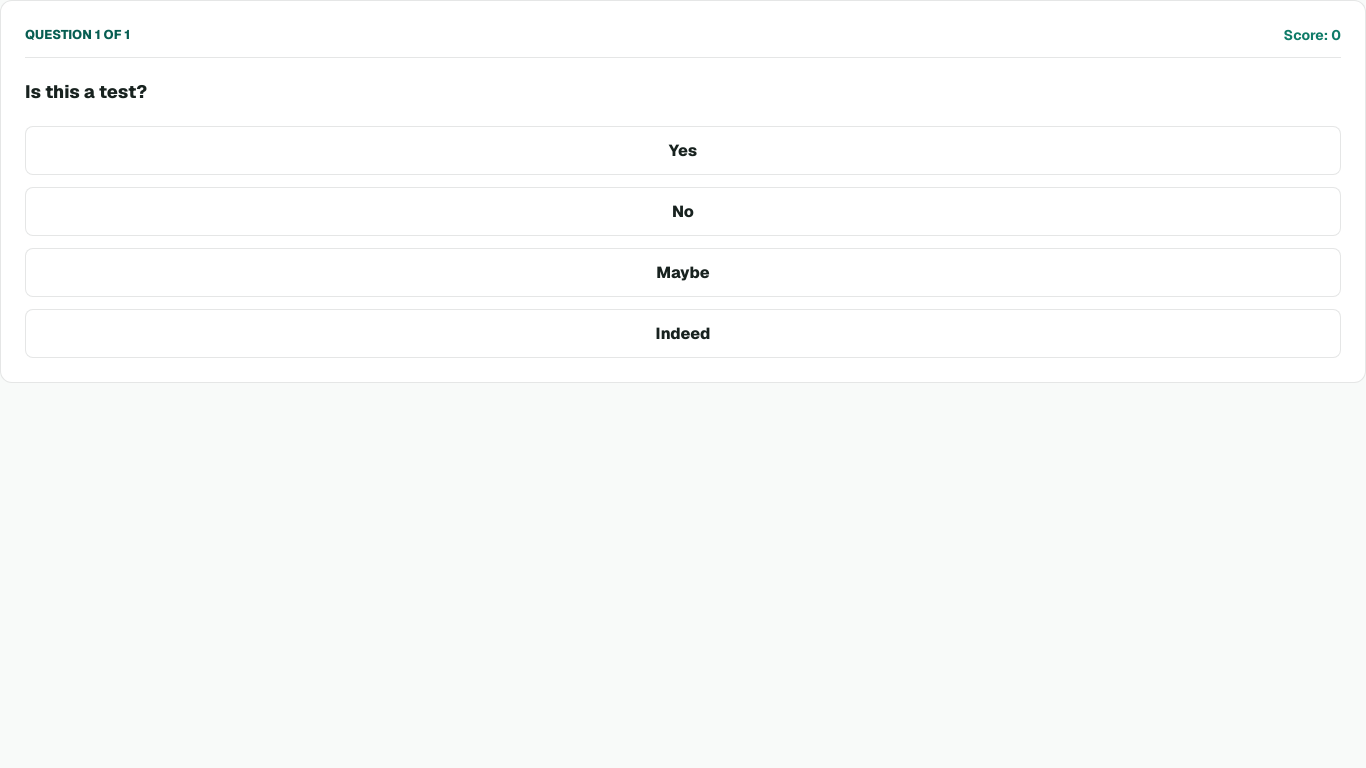
Test: New AI Tools › renders QuizPlayer and allows answering questions
Expected: the text "Question 1 of 1" is shown, left=25, top=26, right=130, bottom=44
Expected: the heading "Is this a test?" is shown, left=25, top=80, right=147, bottom=103
Click the button "Yes".
click(683, 150)  # box left=25, top=126, right=1341, bottom=175
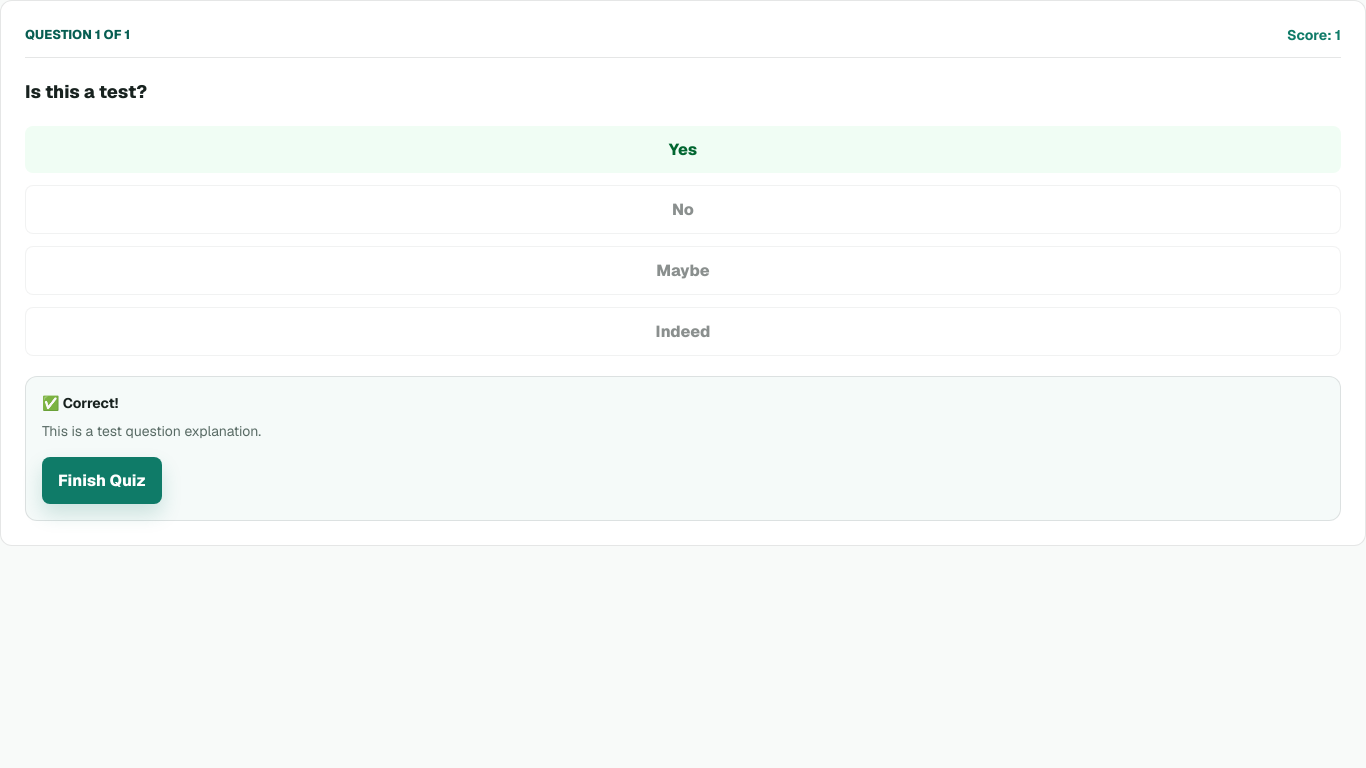
Result: the text "✅ Correct!" is shown at left=42, top=394, right=118, bottom=412
Result: the text "This is a test question explanation." is shown at left=42, top=422, right=261, bottom=440
